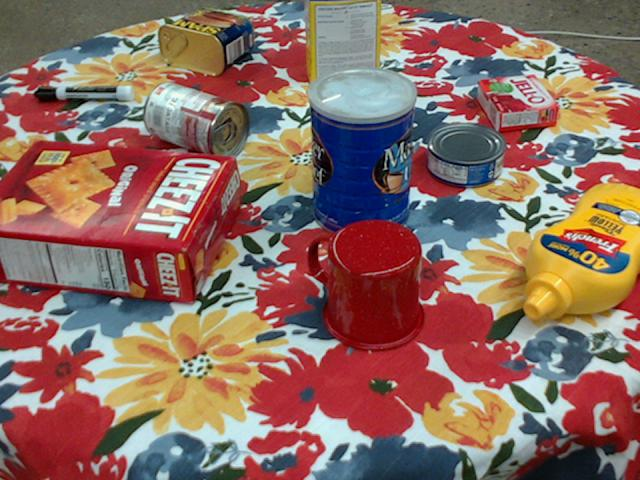cracker_box: (0, 140, 240, 302)
gelatin_box: (475, 76, 556, 132)
large_marker: (35, 85, 133, 100)
master_chef_can: (307, 66, 415, 240)
mug: (307, 219, 424, 351)
mustard_bottle: (524, 181, 639, 317)
potted_meat_can: (157, 6, 253, 74)
sugar_box: (306, 0, 382, 83)
tomato_soup_can: (142, 81, 248, 160)
tuna_fish_can: (426, 122, 506, 187)
